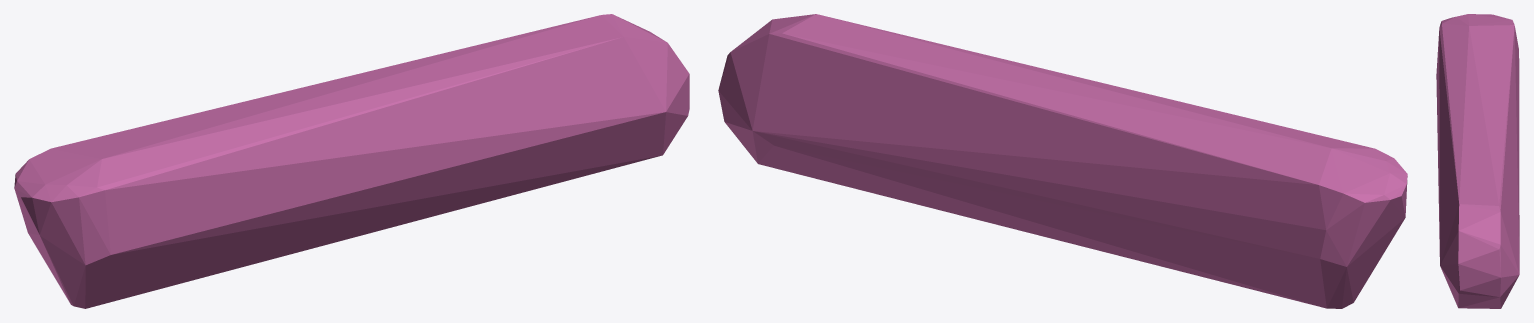
File: suspension_control_arm_rearward_left_a01.glb
The picture shows the model from 3 angles, left to right: view 1: azimuth 30°, elevation 25°; view 2: azimuth 150°, elevation 25°; view 3: azimuth 270°, elevation 25°; orthographic projection. The views are drawn at different scales.
Parts seen in each view (by area): view 1: geometry_0; view 2: geometry_0; view 3: geometry_0.
Part boxes in pixels (<box>): geometry_0: <box>14,14,689,308</box>; geometry_0: <box>718,14,1407,308</box>; geometry_0: <box>1436,14,1519,308</box>.
Bounding box in the file's own units: 0.4788 × 0.1029 × 0.0736.
